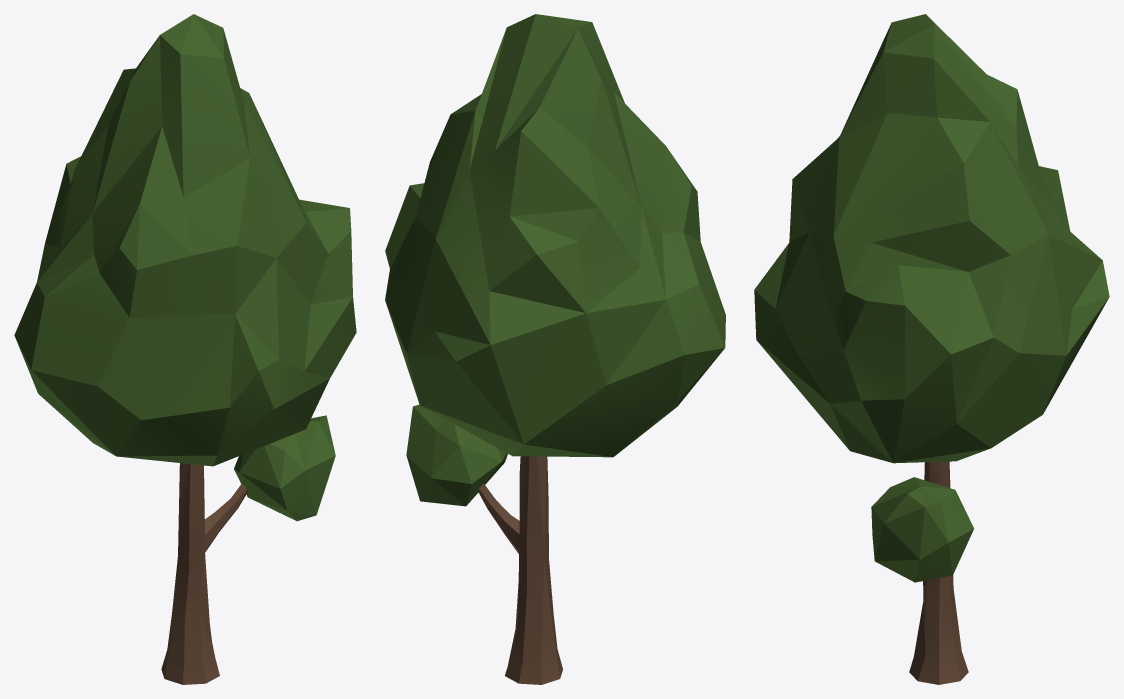
File: BroadleafD.fbx
3 renders of one model, left to right at view 1: azimuth 30°, elevation 25°; view 2: azimuth 150°, elevation 25°; view 3: azimuth 270°, elevation 25°, orthographic.
Parts seen in each view (by area): view 1: BroadleafD; view 2: BroadleafD; view 3: BroadleafD.
Part boxes in pixels (x1=…): BroadleafD: x1=14, y1=14, x2=356, y2=684; BroadleafD: x1=385, y1=14, x2=725, y2=684; BroadleafD: x1=754, y1=14, x2=1109, y2=684.
Bounding box in the file's own units: 737 × 1455 × 723.
